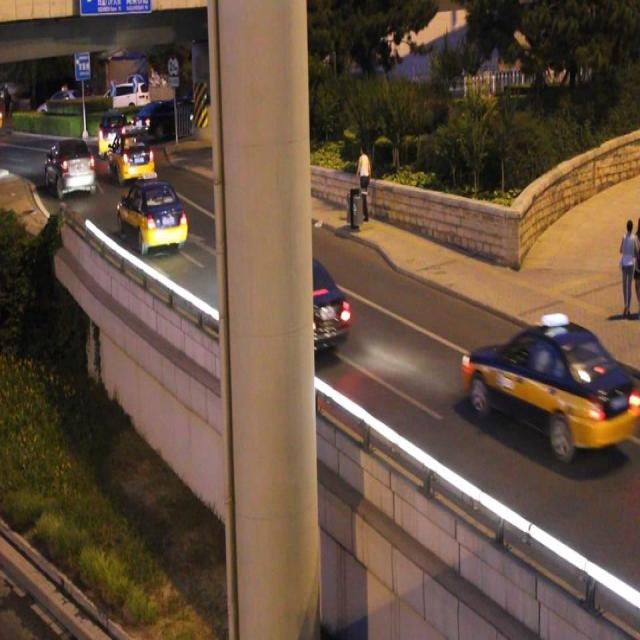car: (466, 317, 640, 451), (244, 258, 347, 351), (116, 176, 185, 246), (46, 142, 96, 194), (108, 131, 154, 181), (98, 117, 125, 154)
